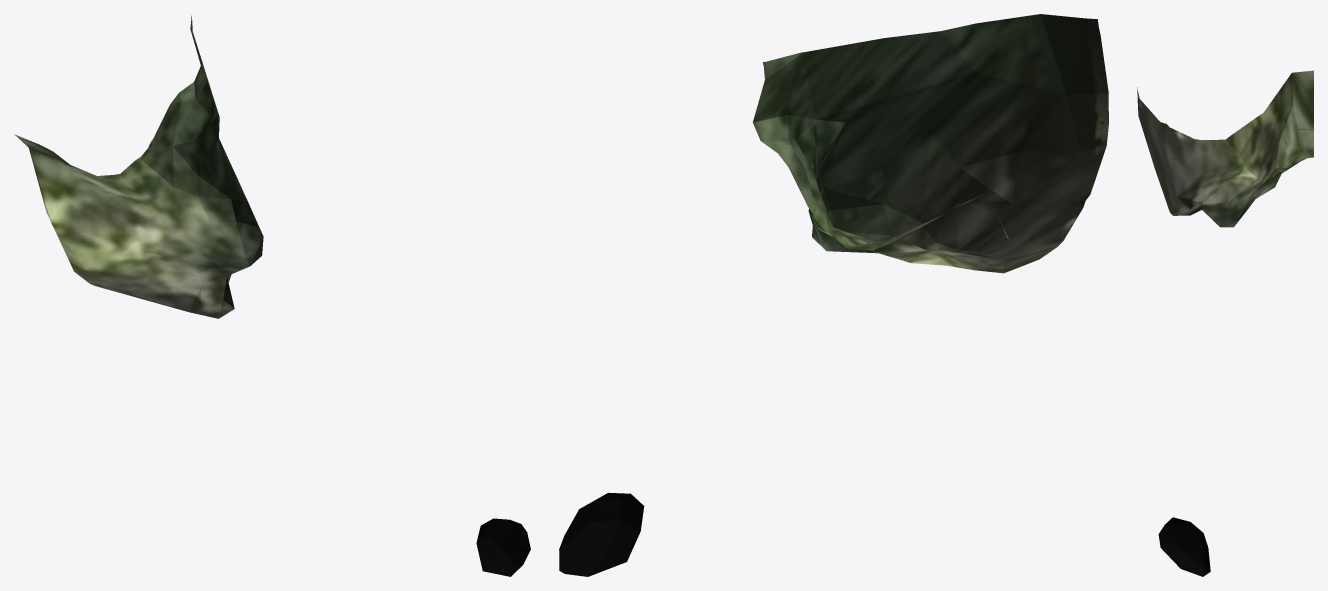
3 views of the same model, side by side, from view 1: azimuth 30°, elevation 25°; view 2: azimuth 150°, elevation 25°; view 3: azimuth 270°, elevation 25° (orthographic). The views are drawn at different scales.
Bounding box in the file's own units: 3.79 × 4.67 × 1.82.
1 material, 1 textured.
